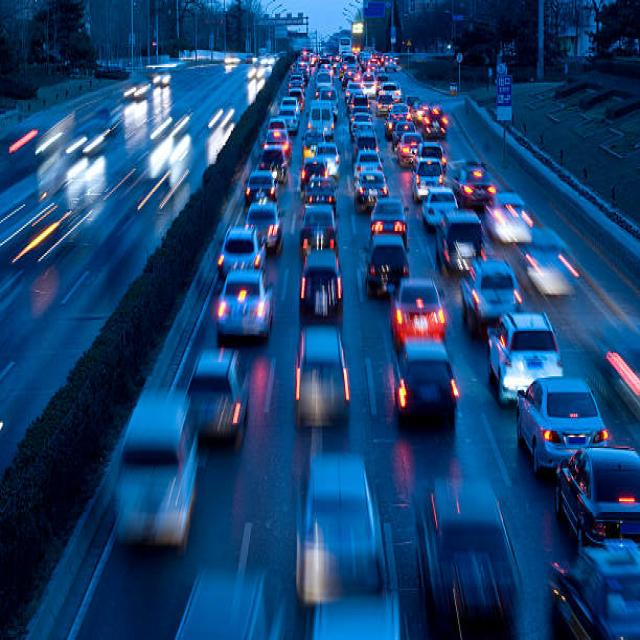high_traffic: (175, 44, 601, 640)
